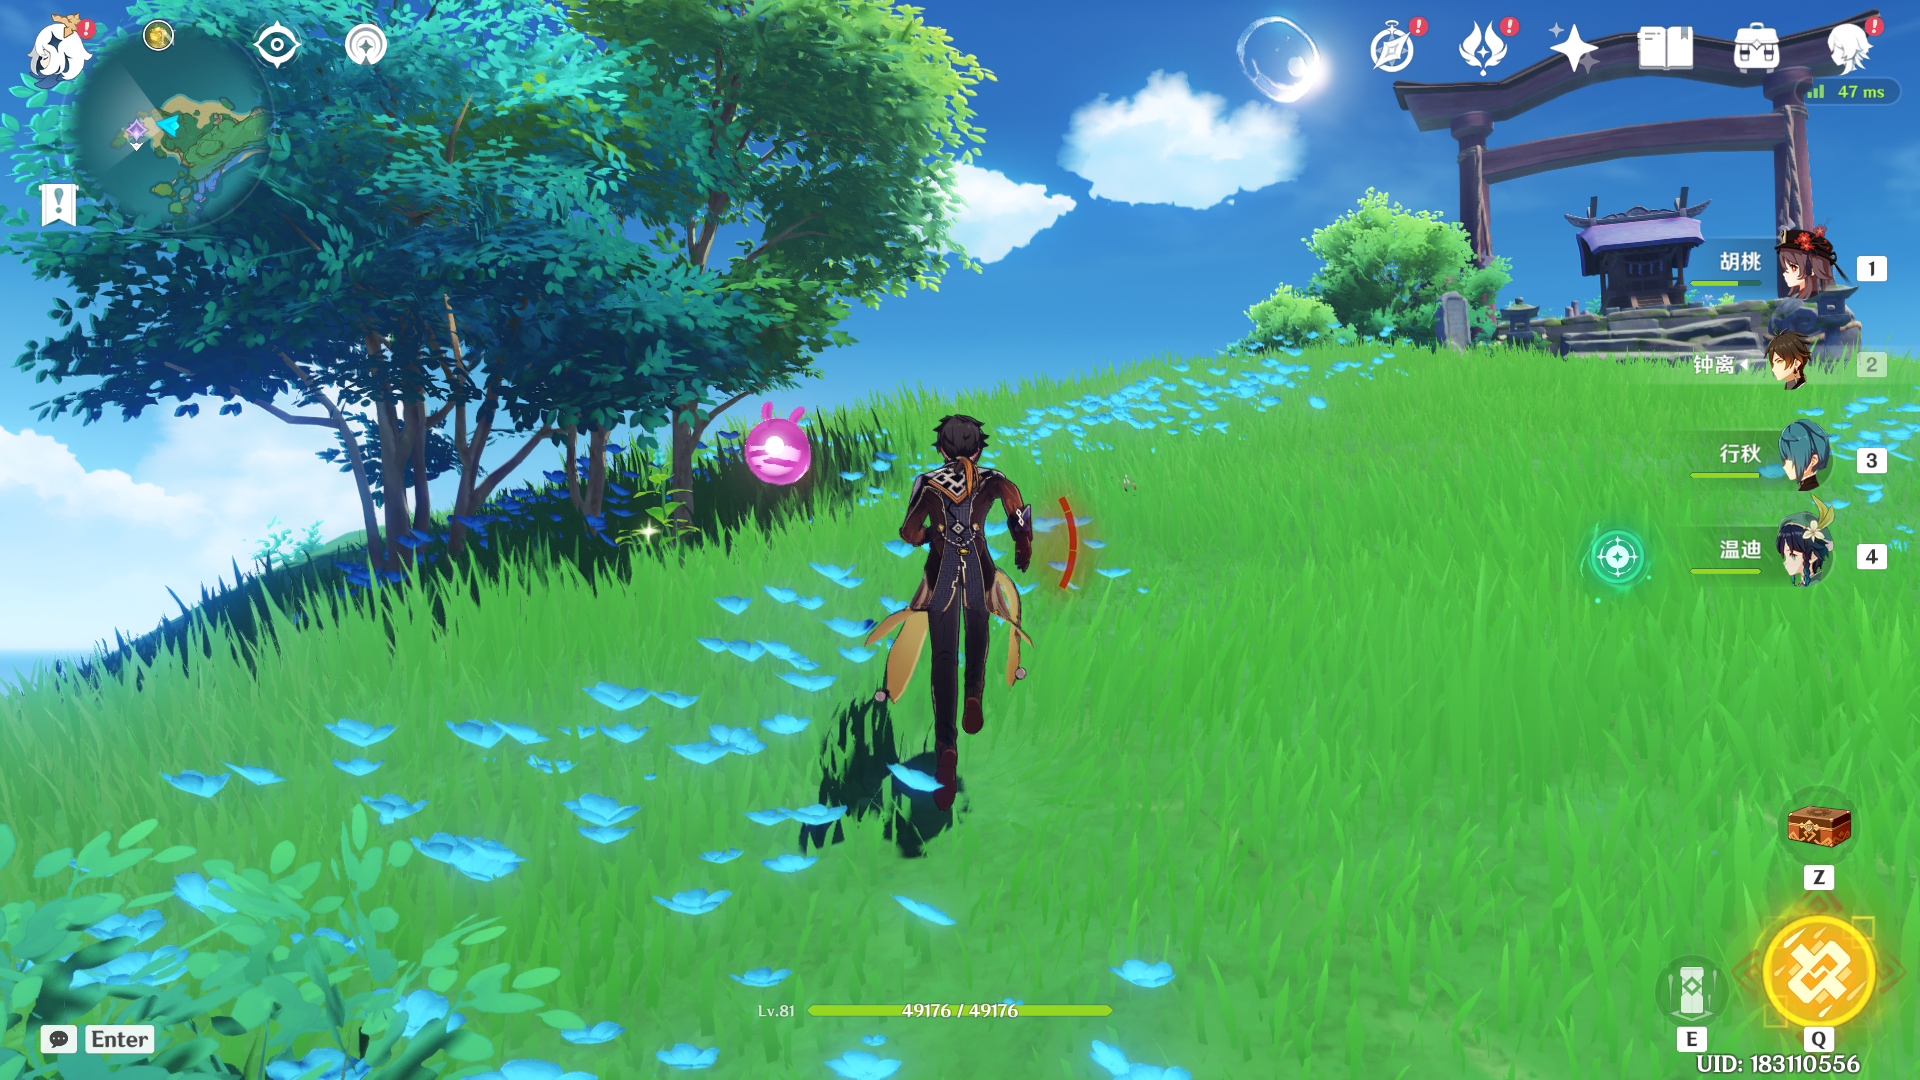character: (825, 367, 1113, 835)
